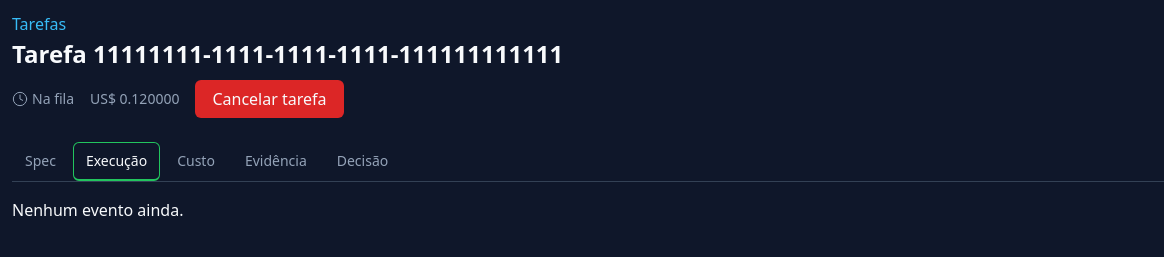
Test case: TaskDetail › cancels a queued task (200) and reports it was cancelled
Check: the text "Na fila" is shown, box [12, 89, 74, 109]
Click the button "Cancelar tarefa". click: (269, 99)
box: [195, 80, 344, 118]
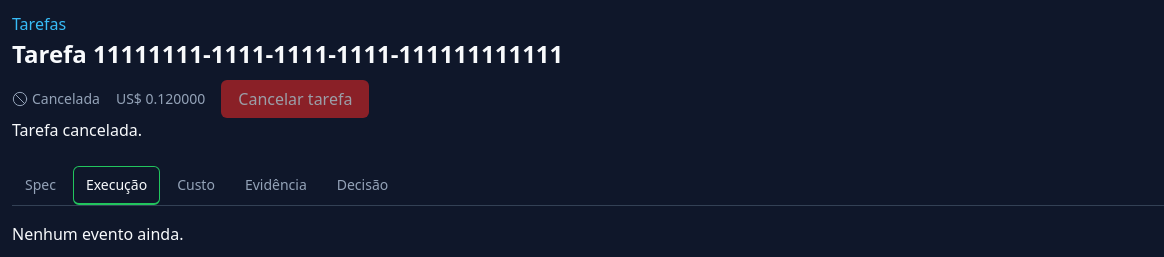
Check: the text "Tarefa cancelada." is shown, box [12, 119, 142, 141]
